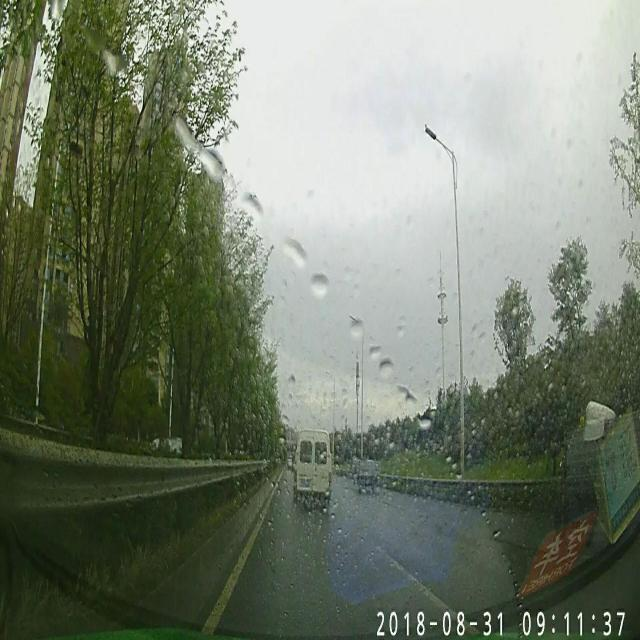car: (290, 428, 333, 511), (354, 457, 380, 497)
